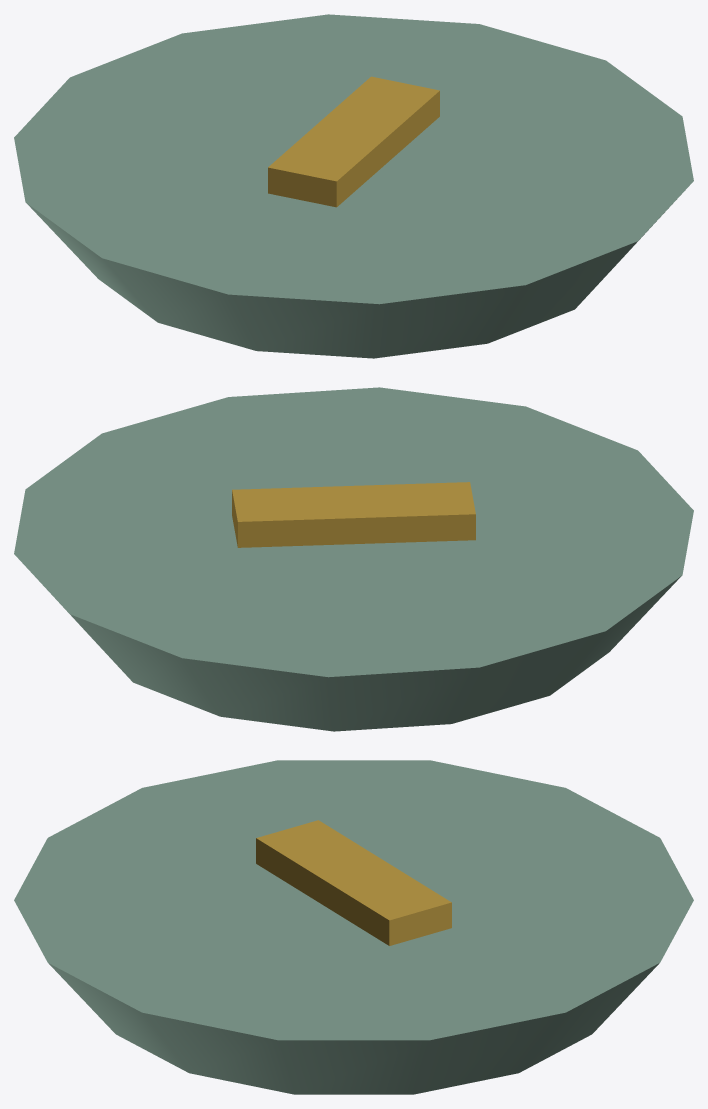
The model's file is bowl-for-keys-keys.glb.
3 views of the same model, one above another, from view 1: azimuth 30°, elevation 25°; view 2: azimuth 150°, elevation 25°; view 3: azimuth 270°, elevation 25° (orthographic).
Size of the model in its own units: 0.7019 by 0.135 by 0.72.
